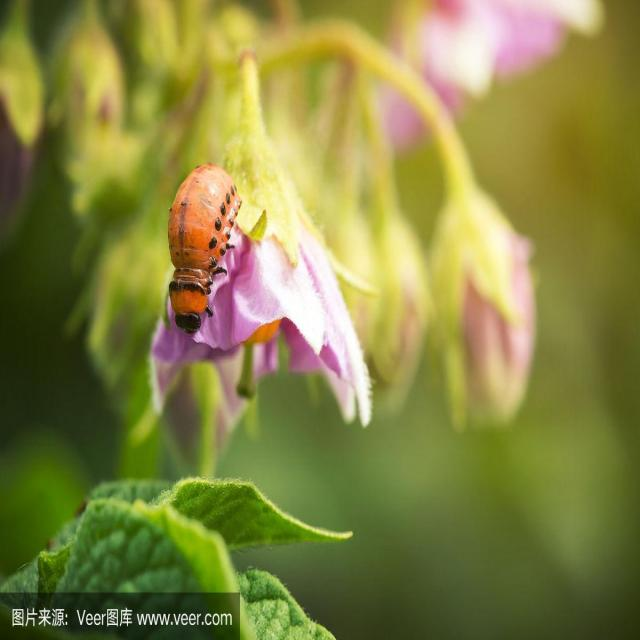ShuCaiHuaBanChong-Larva-: (152, 153, 242, 340)
